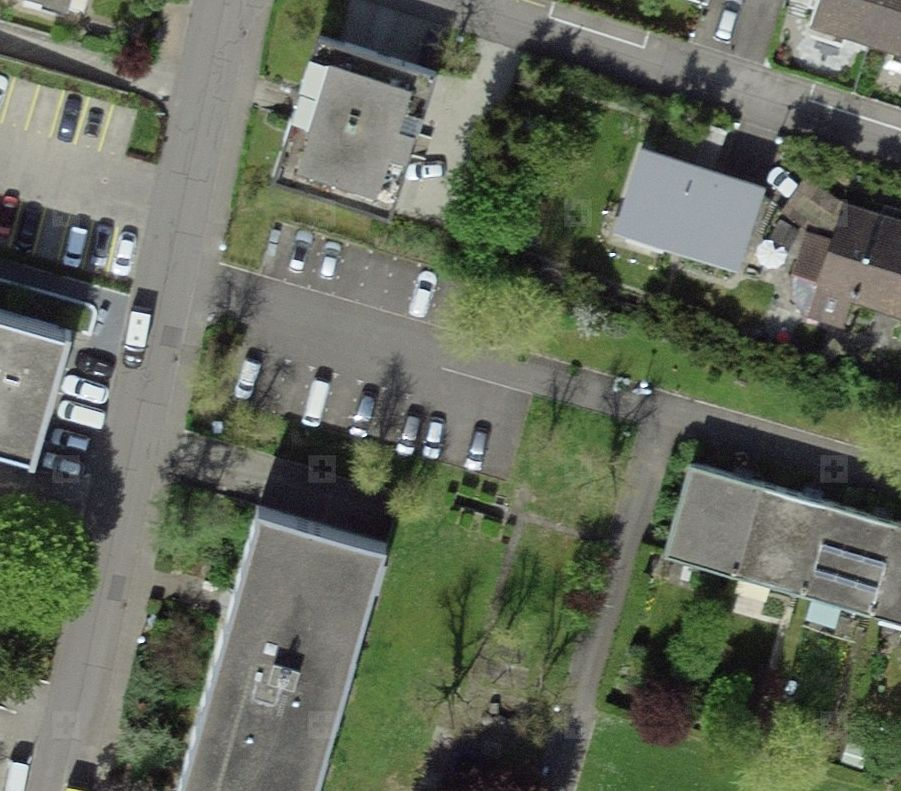solar: (801, 530, 890, 611)
